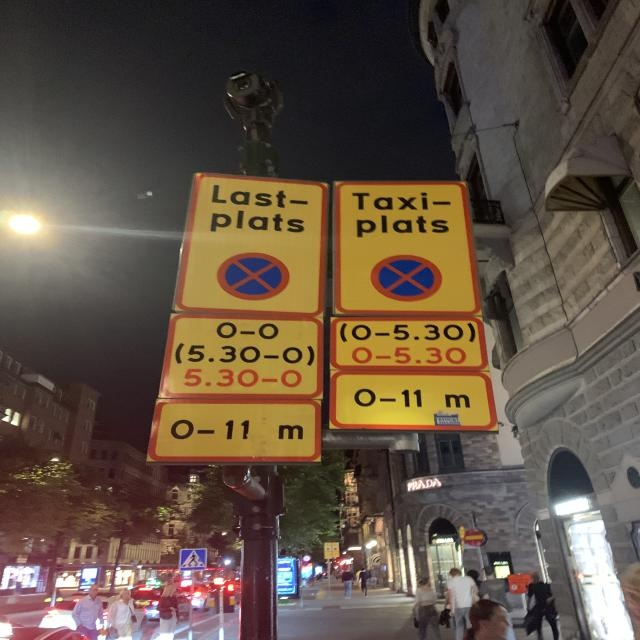lastplats: (168, 172, 330, 316)
